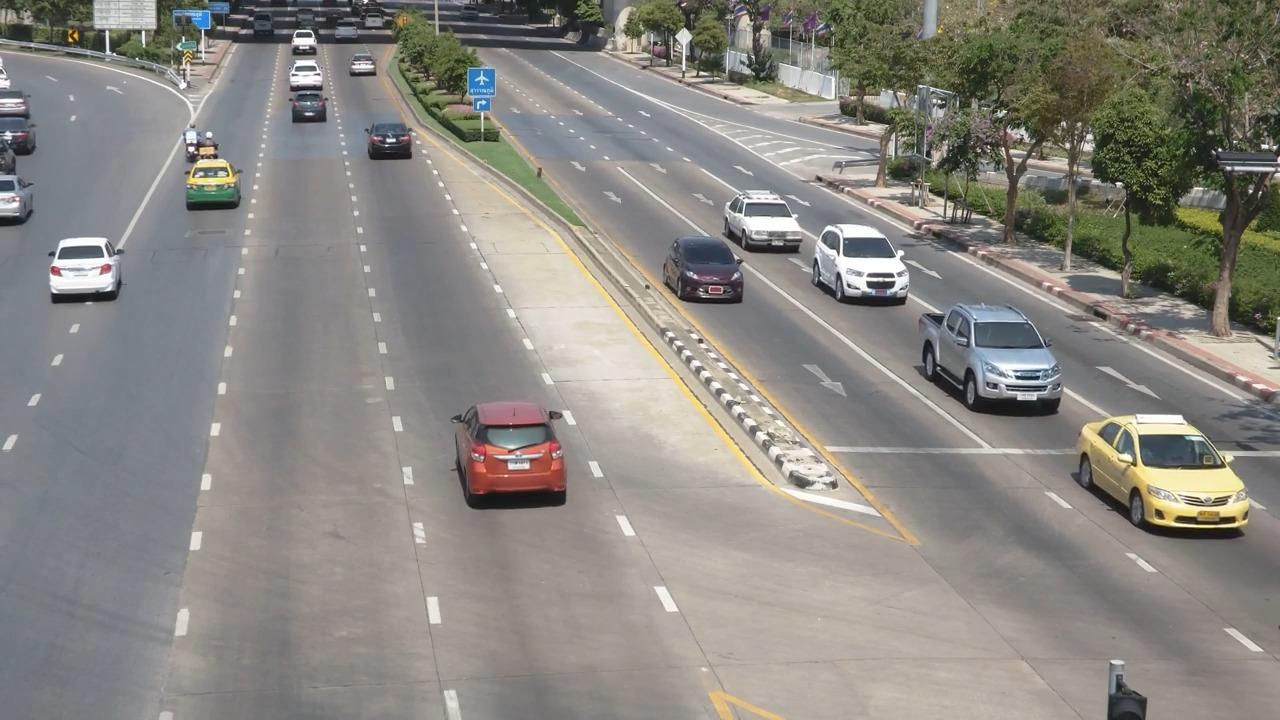CAR: (1075, 404, 1249, 544), (438, 383, 588, 520), (917, 294, 1069, 423), (808, 216, 916, 310), (38, 217, 131, 314), (720, 177, 813, 257), (663, 232, 750, 313), (176, 155, 254, 225), (361, 115, 432, 170), (276, 91, 342, 137), (284, 87, 345, 134), (283, 61, 333, 105), (342, 48, 387, 86), (325, 17, 370, 54), (283, 27, 325, 63), (242, 10, 281, 43), (2, 79, 28, 125), (359, 11, 394, 41), (291, 11, 322, 39)
MOTOR: (169, 114, 203, 161), (195, 129, 228, 171)
